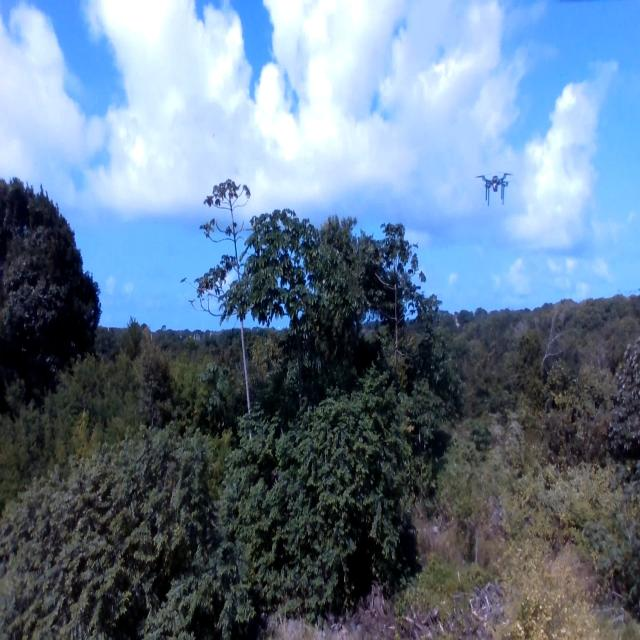-uav-: (470, 159, 521, 225)
